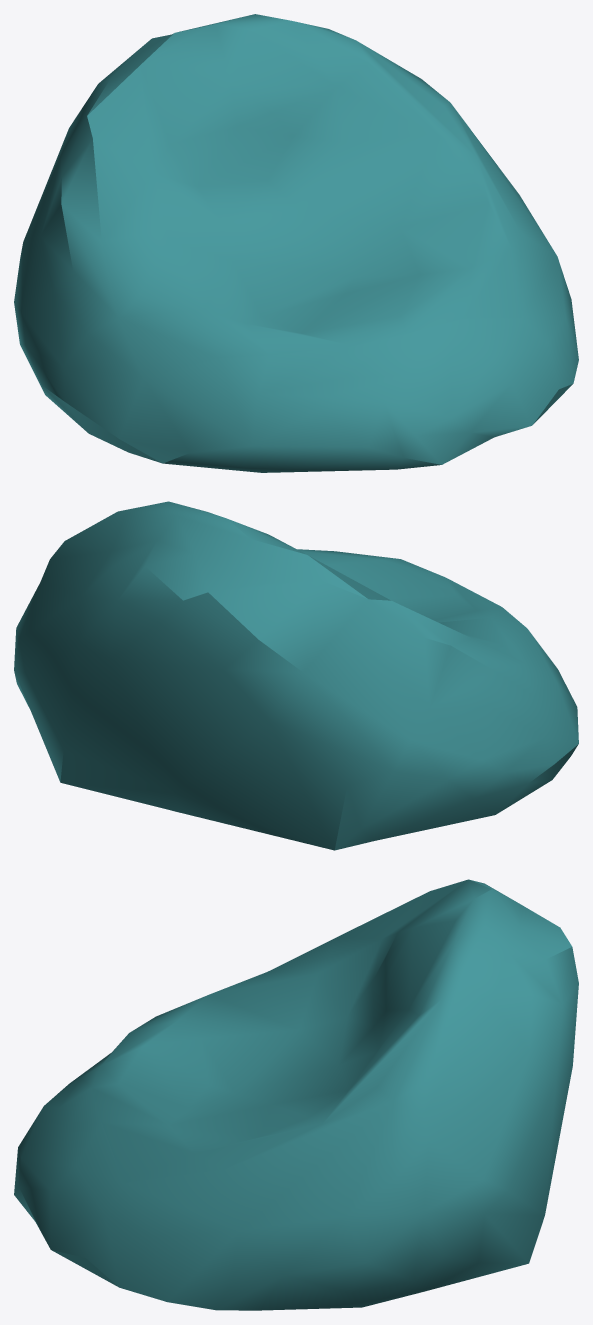
Rendered from Beanbag_Blue.glb.
3 renders of one model, top to bottom at view 1: azimuth 30°, elevation 25°; view 2: azimuth 150°, elevation 25°; view 3: azimuth 270°, elevation 25°, orthographic. The views are drawn at different scales.
Visible parts, largest first — view 1: Puf; view 2: Puf; view 3: Puf.
Part boxes in pixels (box(x1,y1,x2,y2)): Puf: box(14, 14, 578, 472); Puf: box(14, 501, 578, 850); Puf: box(14, 879, 578, 1310).
Size of what is drawn, in the model's own units: 1.81 by 0.9886 by 1.73.
1 material, 1 textured.
